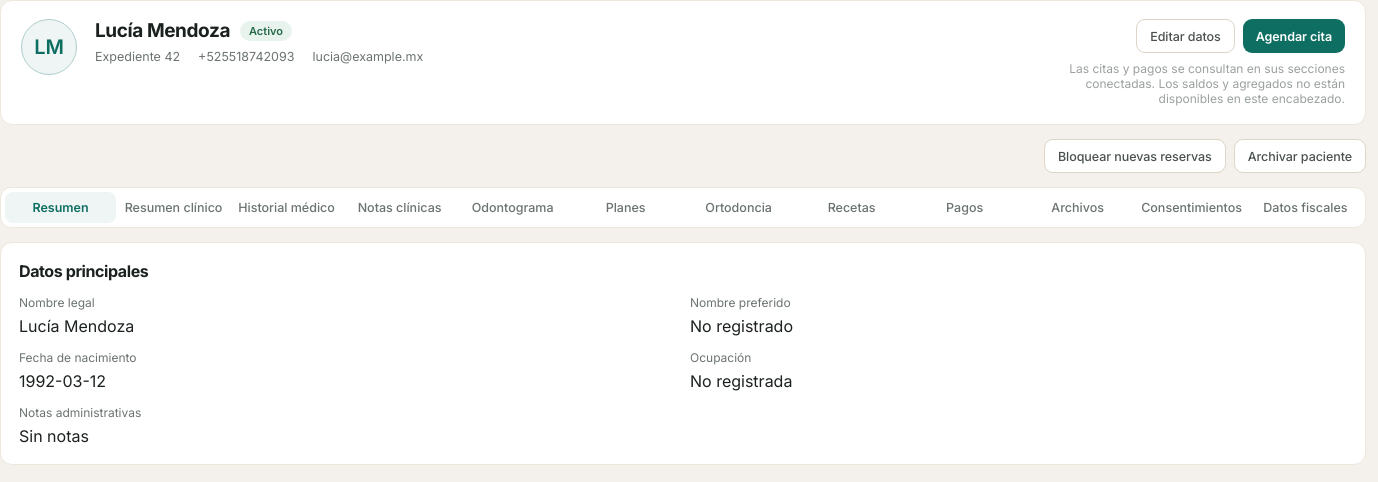
Test case: PatientRecordPage › loads real payments only after an authorized user opens Pagos
The width and height of the screenshot is (1378, 482).
Expected: the heading "Lucía Mendoza" is shown, [95,19,230,42]
Click the tab "Pagos": (965, 208) [909,192,1020,223]
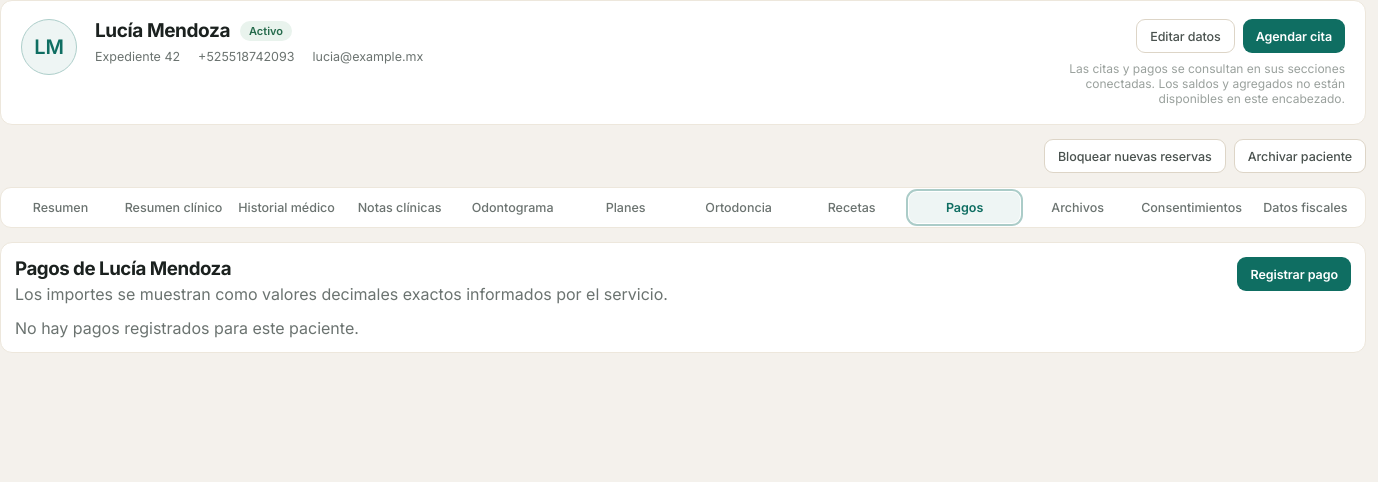
Expected: the heading "Pagos de Lucía Mendoza" is shown, [15,257,231,280]
